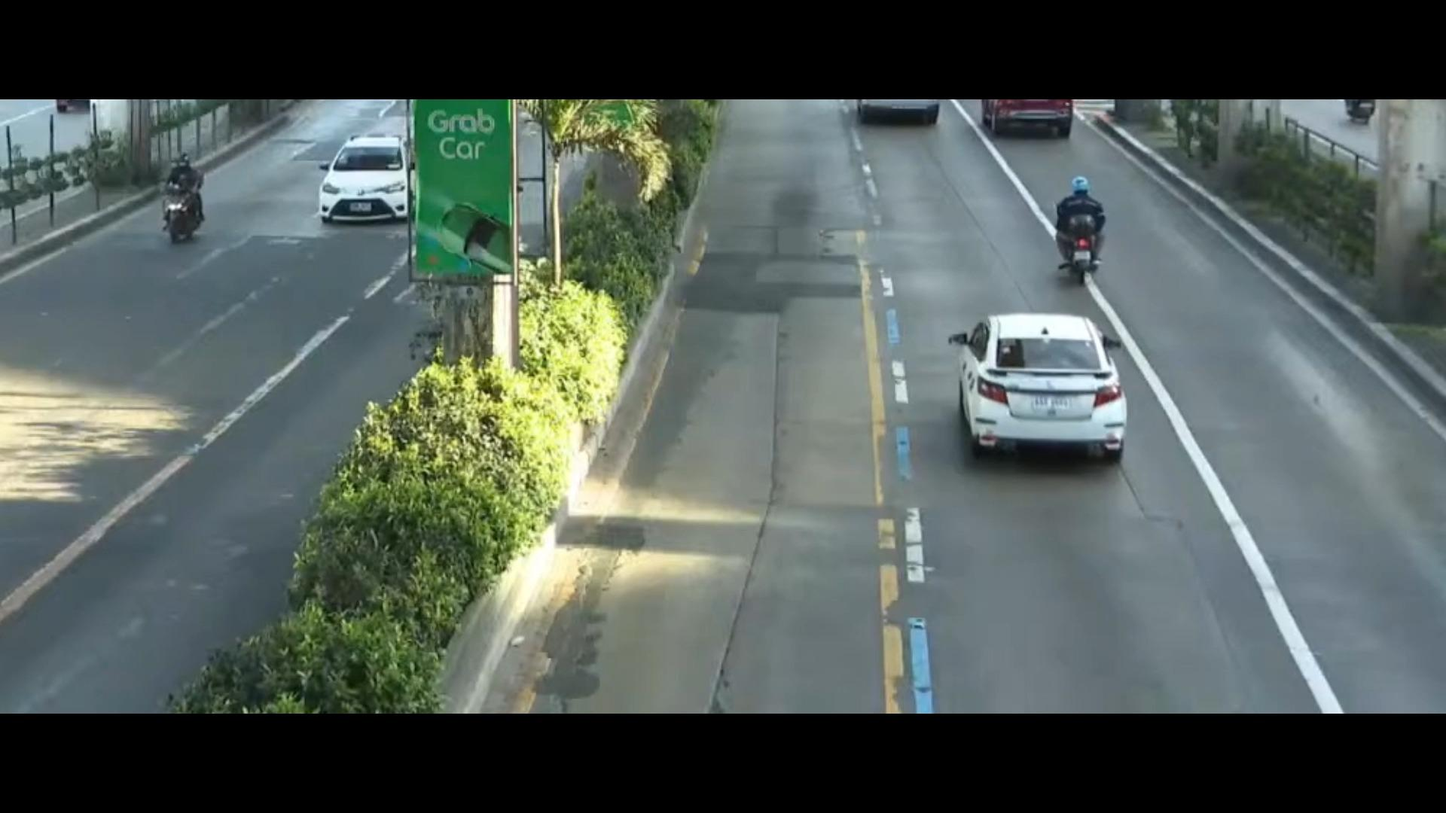Motorcycle: (1019, 174, 1133, 300), (145, 156, 234, 260)
Sedan: (924, 302, 1154, 464), (304, 123, 409, 230)
